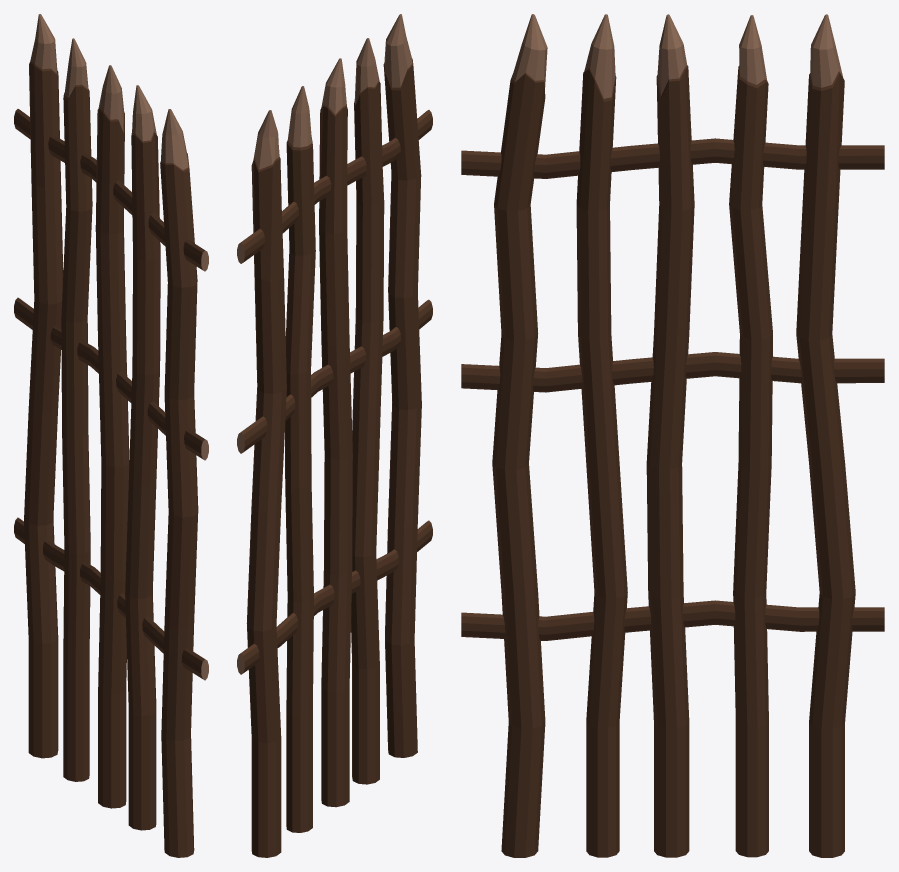
The model's file is FeebleTwigGate1.fbx.
The picture shows the model from 3 angles, left to right: view 1: azimuth 30°, elevation 25°; view 2: azimuth 150°, elevation 25°; view 3: azimuth 270°, elevation 25°; orthographic projection. The views are drawn at different scales.
Parts seen in each view (by area): view 1: FeebleGate1.002; view 2: FeebleGate1.002; view 3: FeebleGate1.002.
Part boxes in pixels (box(x1,y1,x2,y2)): FeebleGate1.002: box(14, 14, 208, 857); FeebleGate1.002: box(237, 14, 432, 857); FeebleGate1.002: box(461, 14, 884, 857).
Bounding box in the file's own units: 20.75 × 594 × 273.
